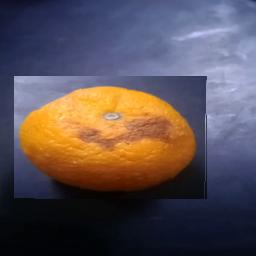Orange Semifresh: (15, 77, 208, 200)
